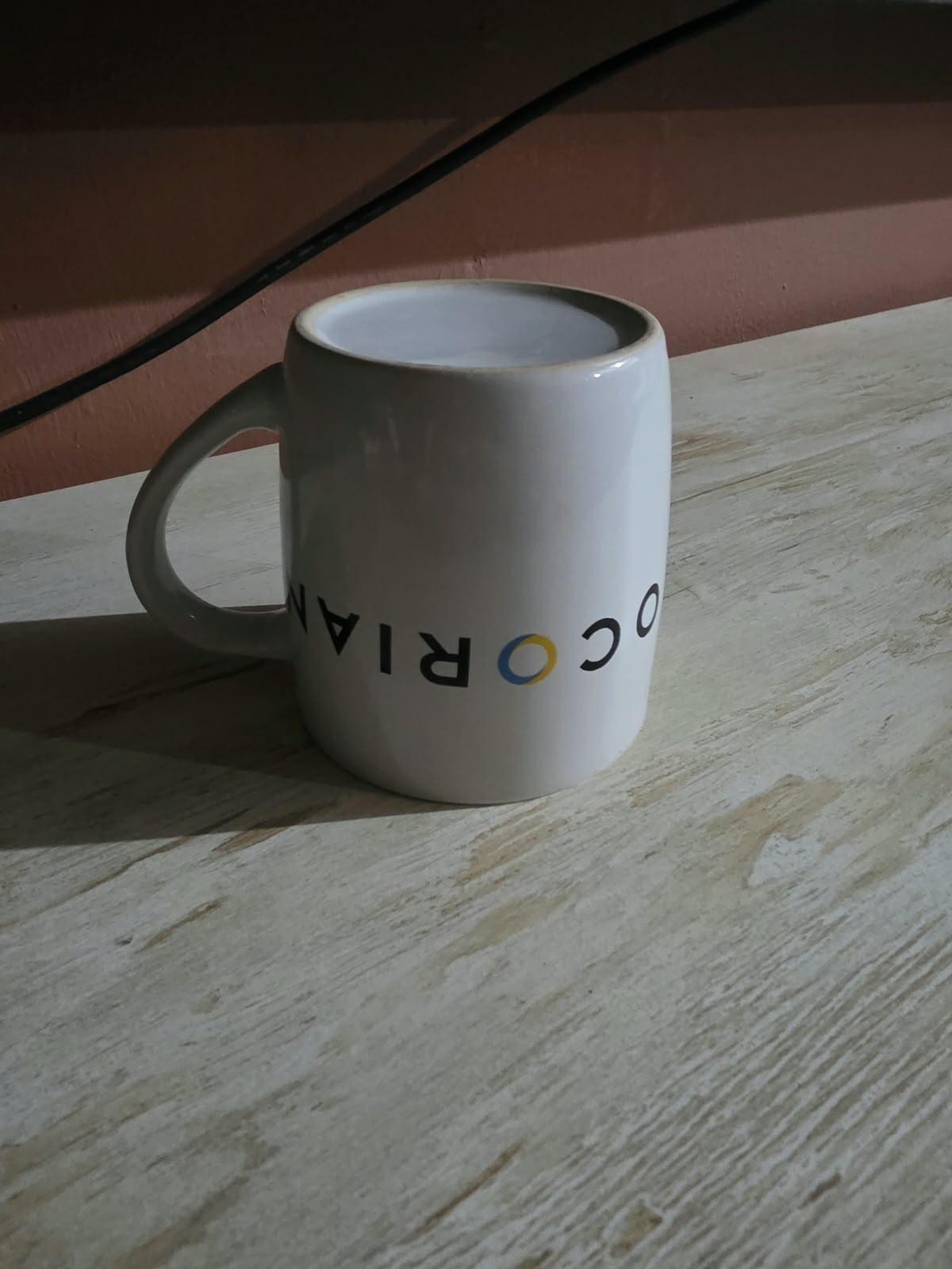mug: (125, 278, 673, 807)
